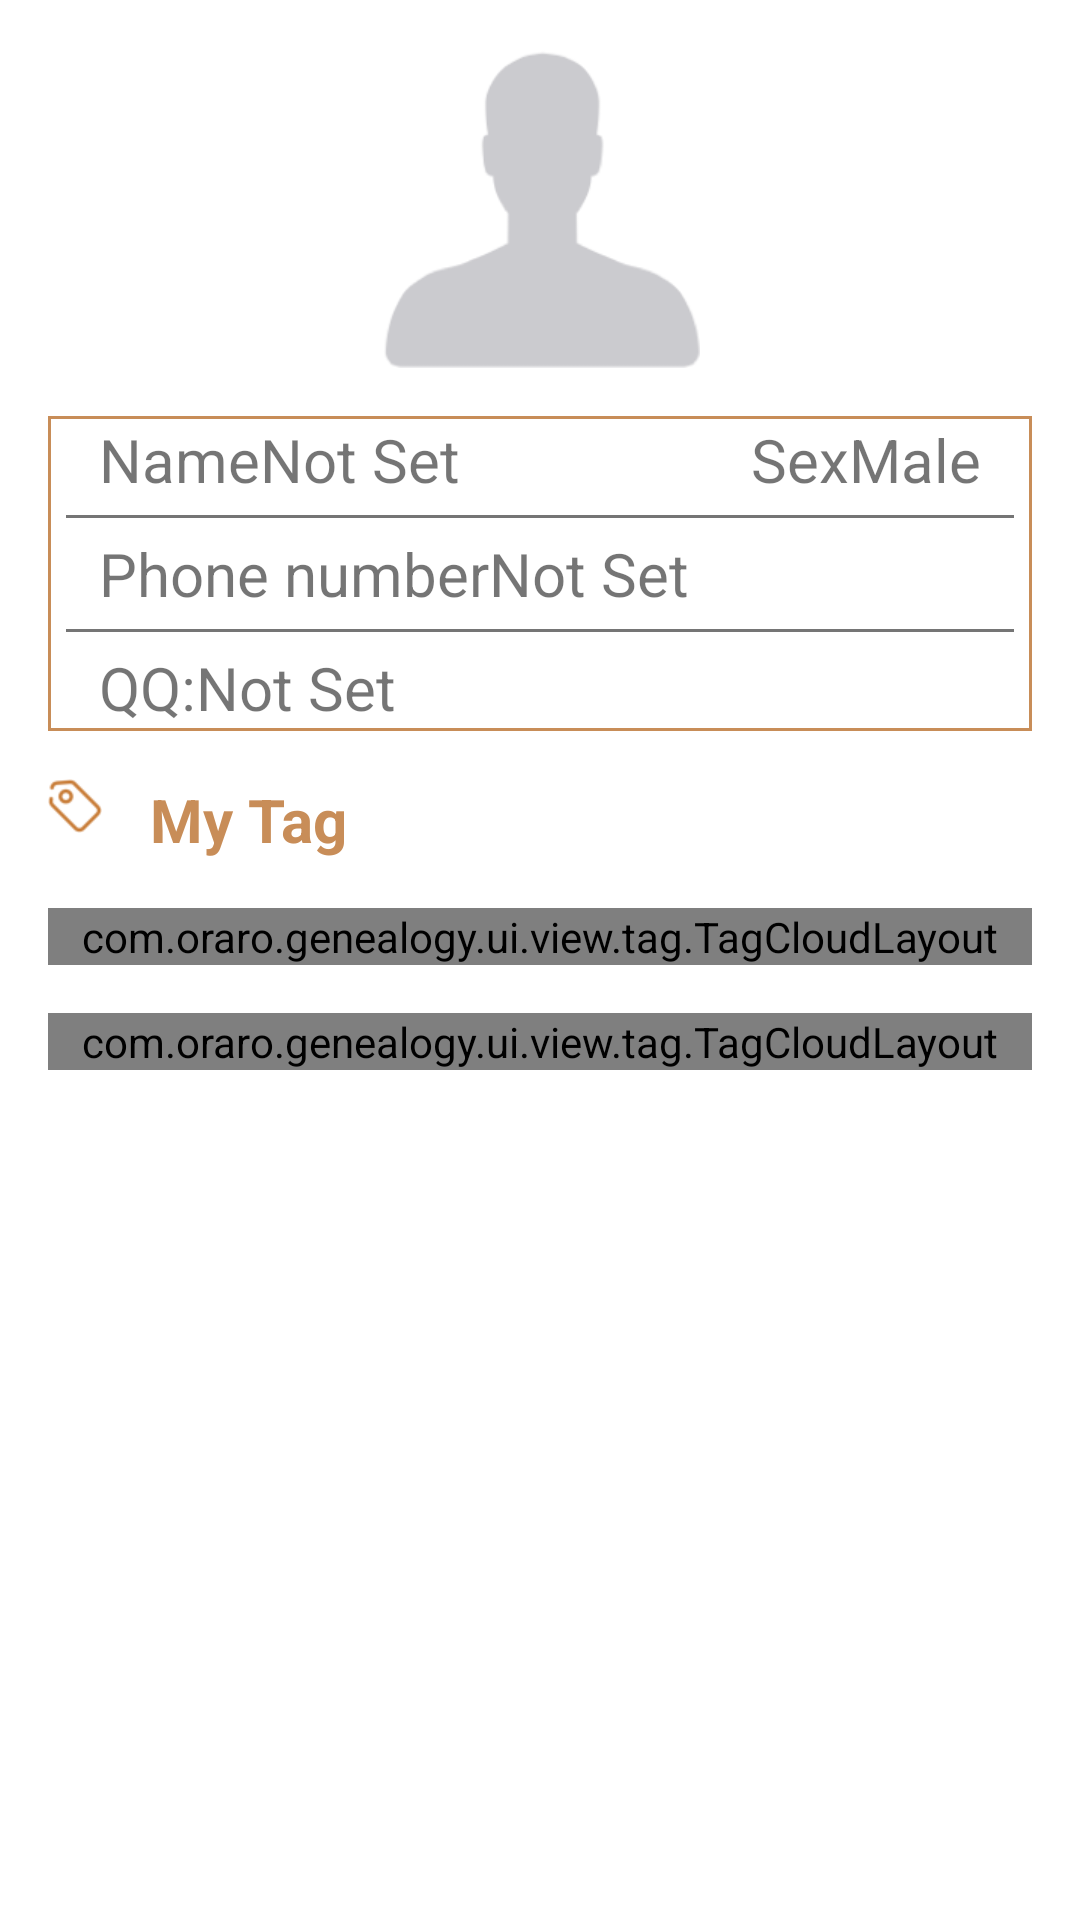

Named icons in this screenshot (1080×1920) and their bounding boxes, (x1, y1, x2, y2):
user: (386, 53, 700, 367)
